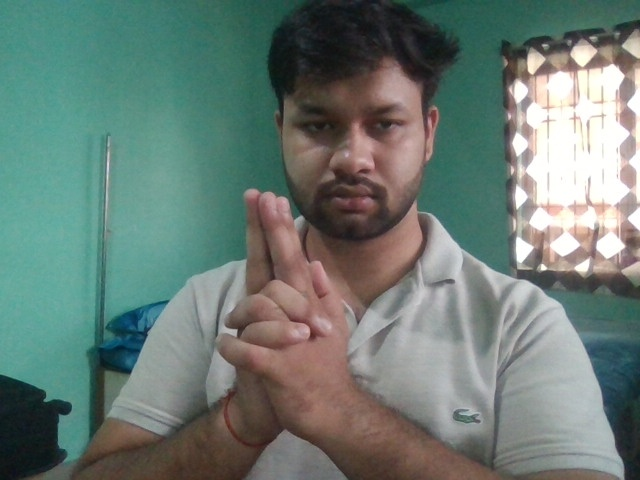1000 Years of Death: (211, 182, 366, 455)
